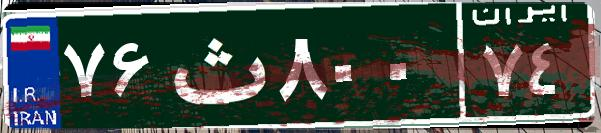0: (385, 28, 445, 110), (330, 28, 385, 110)
4: (525, 38, 570, 115)
6: (110, 28, 158, 105)
7: (57, 26, 110, 107), (475, 38, 525, 113)
8: (273, 28, 330, 110)
ث: (158, 15, 273, 115)
